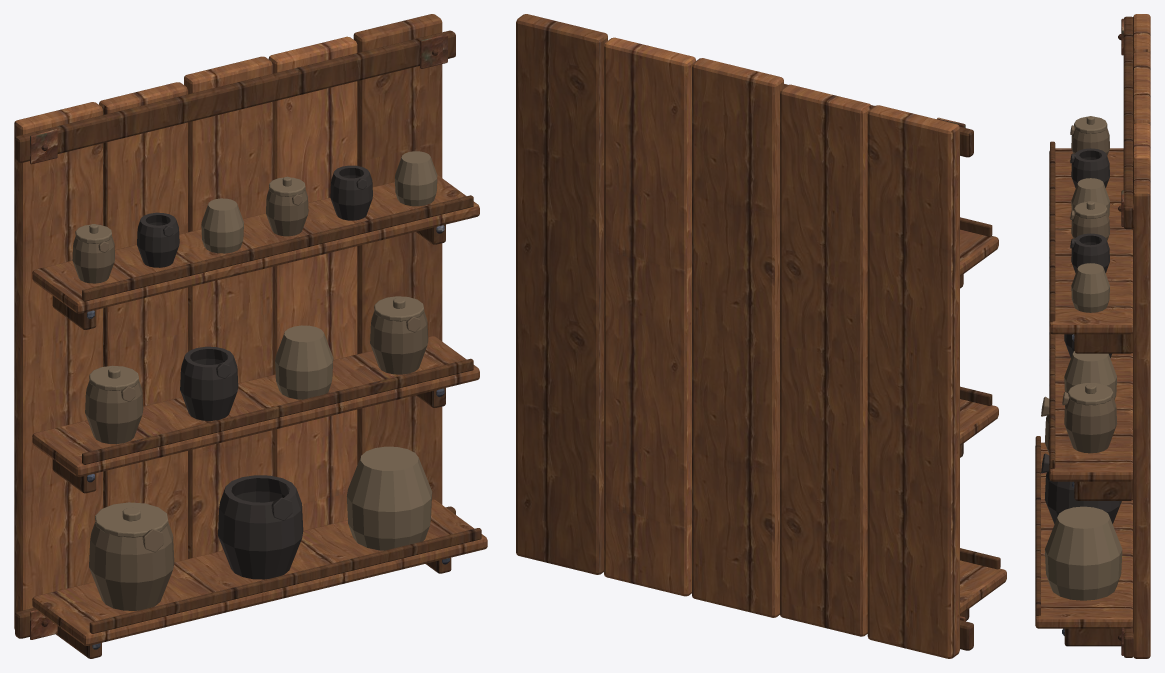
The model's file is cf_crucible_shelf.glb.
3 views of the same model, side by side, from view 1: azimuth 30°, elevation 25°; view 2: azimuth 150°, elevation 25°; view 3: azimuth 270°, elevation 25° (orthographic). The views are drawn at different scales.
Parts seen in each view (by area): view 1: model; view 2: model; view 3: model.
Boxes of the visible parts, x1,y1,x2,y2 form: model: (14,14,487,658); model: (516,14,1006,658); model: (1035,14,1150,658).
Size of the model in its own units: 1.29 by 1.46 by 0.327.
10 materials, 7 textured.
